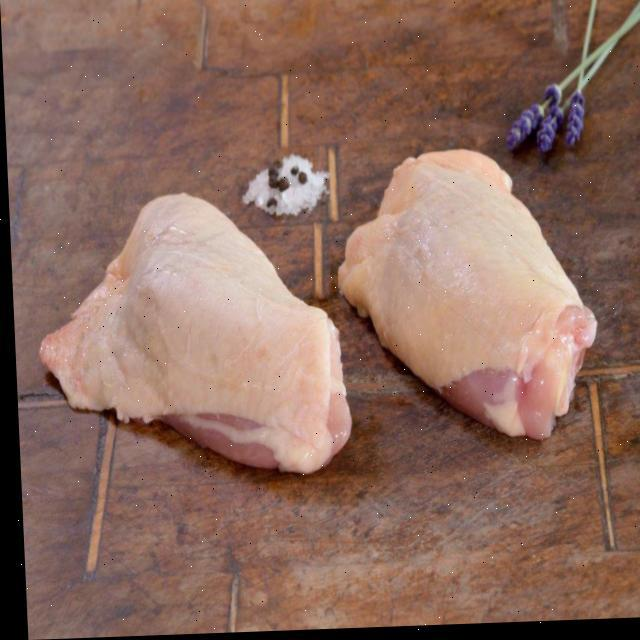thigh: (38, 162, 354, 546), (324, 113, 586, 466)
